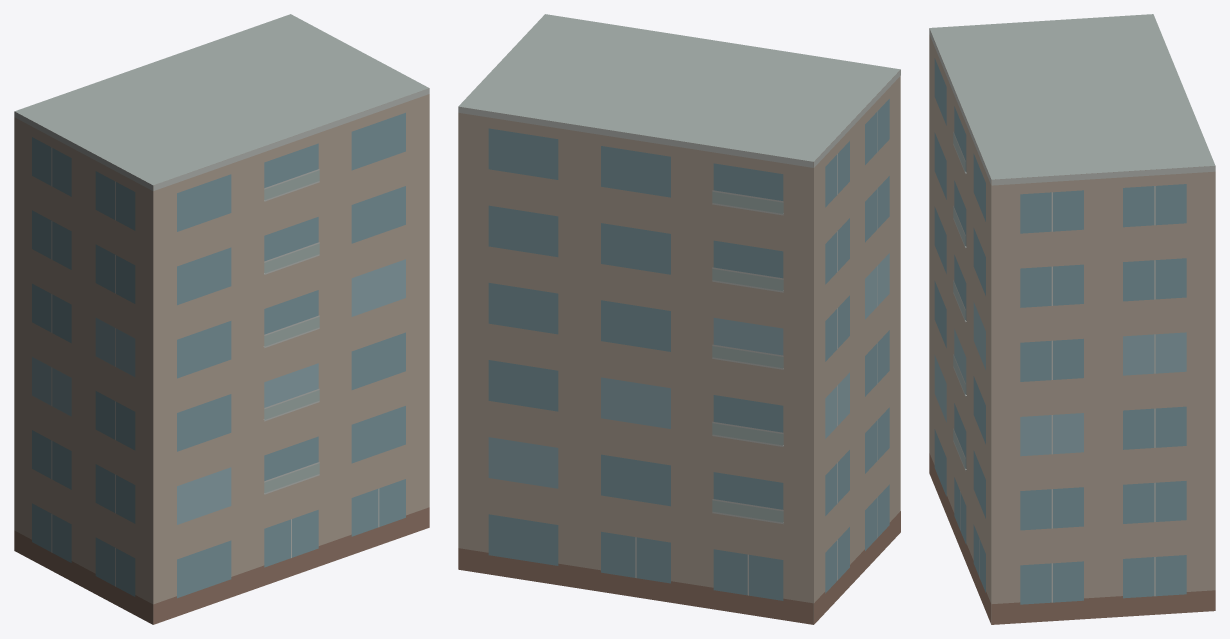
File: survey-upis-32999416.glb
The picture shows the model from 3 angles, left to right: view 1: azimuth 30°, elevation 25°; view 2: azimuth 150°, elevation 25°; view 3: azimuth 270°, elevation 25°; orthographic projection. The views are drawn at different scales.
Visible parts, largest first — view 1: survey-upis-32999416.tmp; view 2: survey-upis-32999416.tmp; view 3: survey-upis-32999416.tmp.
Boxes of the visible parts, x1,y1,x2,y2 form: survey-upis-32999416.tmp: [14, 14, 429, 624]; survey-upis-32999416.tmp: [458, 14, 900, 624]; survey-upis-32999416.tmp: [929, 14, 1215, 624].
Bounding box in the file's own units: 14.61 × 18.3 × 10.67.
